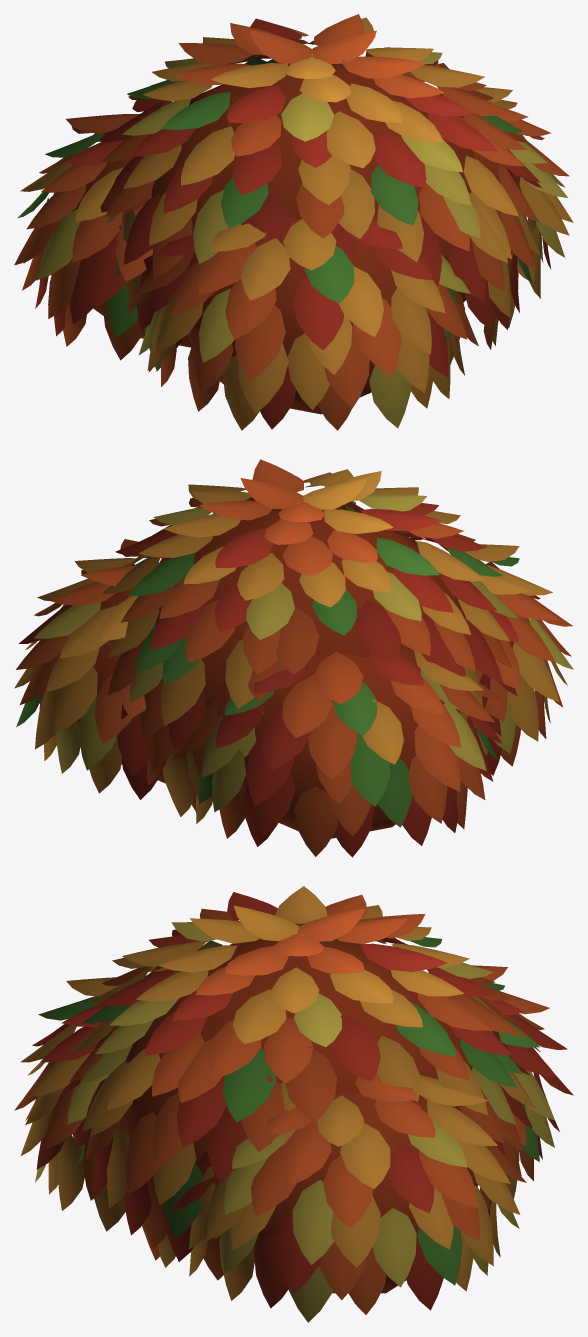
File: bush_fall.glb
3 views of the same model, one above another, from view 1: azimuth 30°, elevation 25°; view 2: azimuth 150°, elevation 25°; view 3: azimuth 270°, elevation 25° (orthographic). The views are drawn at different scales.
Visible parts, largest first — view 1: bush_fall; view 2: bush_fall; view 3: bush_fall.
Boxes of the visible parts, left/top/right/bottom form: bush_fall: left=14, top=14, right=573, bottom=430; bush_fall: left=14, top=459, right=573, bottom=857; bush_fall: left=14, top=886, right=573, bottom=1322.
Bounding box in the file's own units: 1.39 × 0.8367 × 1.33.
